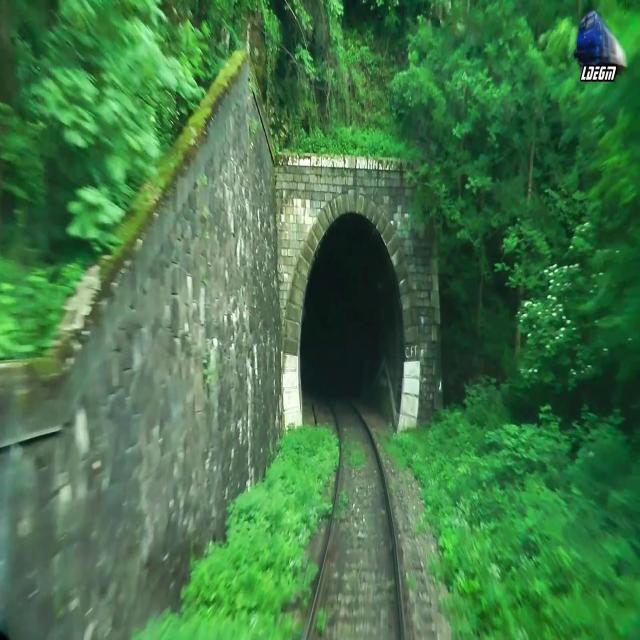rail-track: (308, 399, 400, 639)
